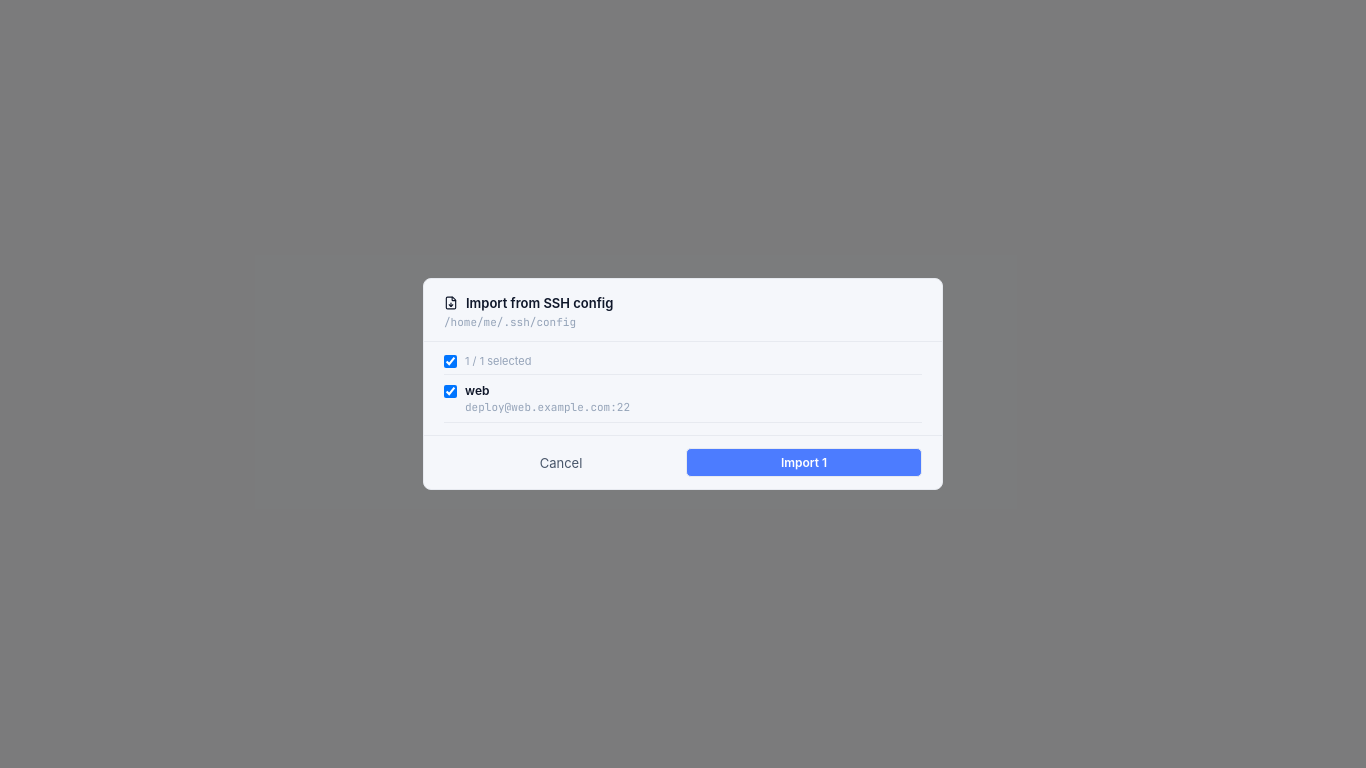
SshConfigImport › keeps the dialog open and names the host that failed
The width and height of the screenshot is (1366, 768).
Expected: the text "web" is shown, top-left (465, 383), bottom-right (490, 398)
Click the button "Import 1". click: (804, 462)
box: top-left (686, 448), bottom-right (922, 477)
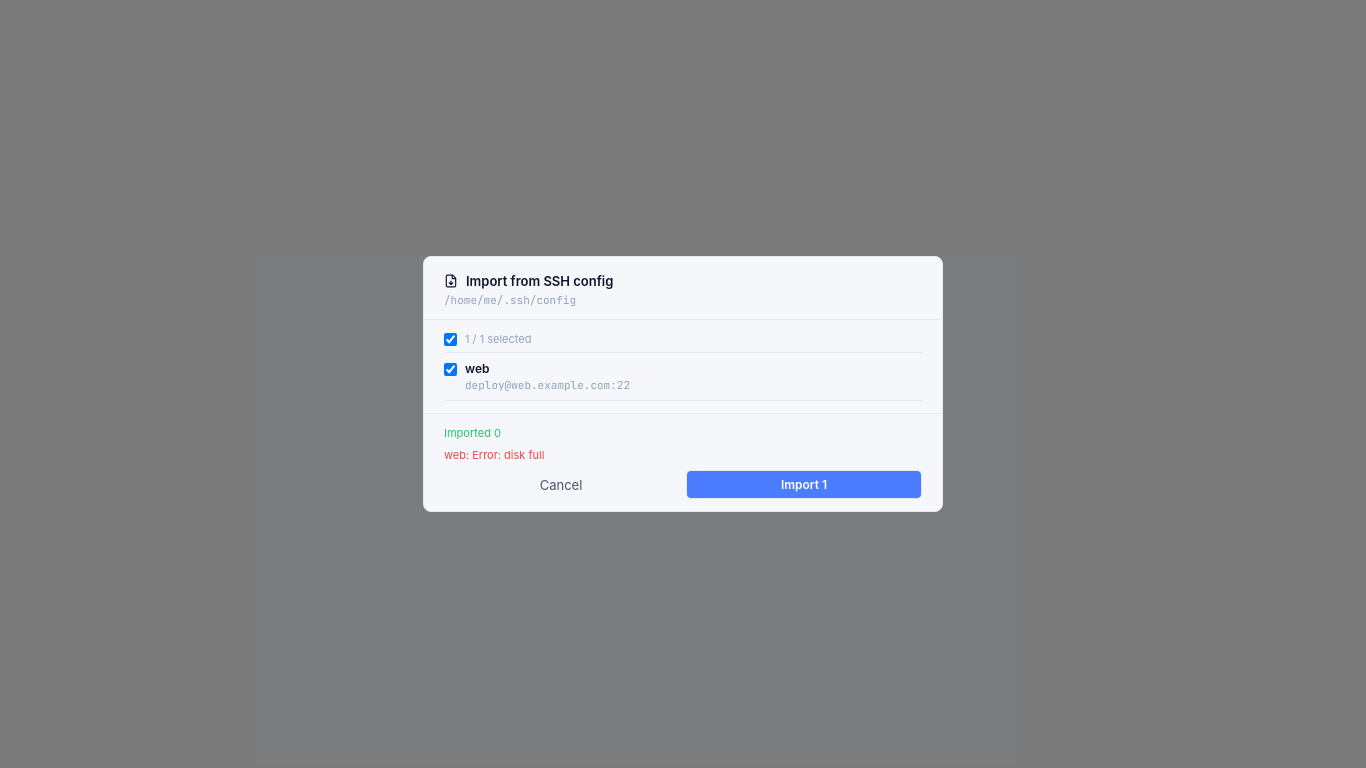
Expected: the text "web: Error: disk full" is shown, top-left (444, 448), bottom-right (544, 462)
